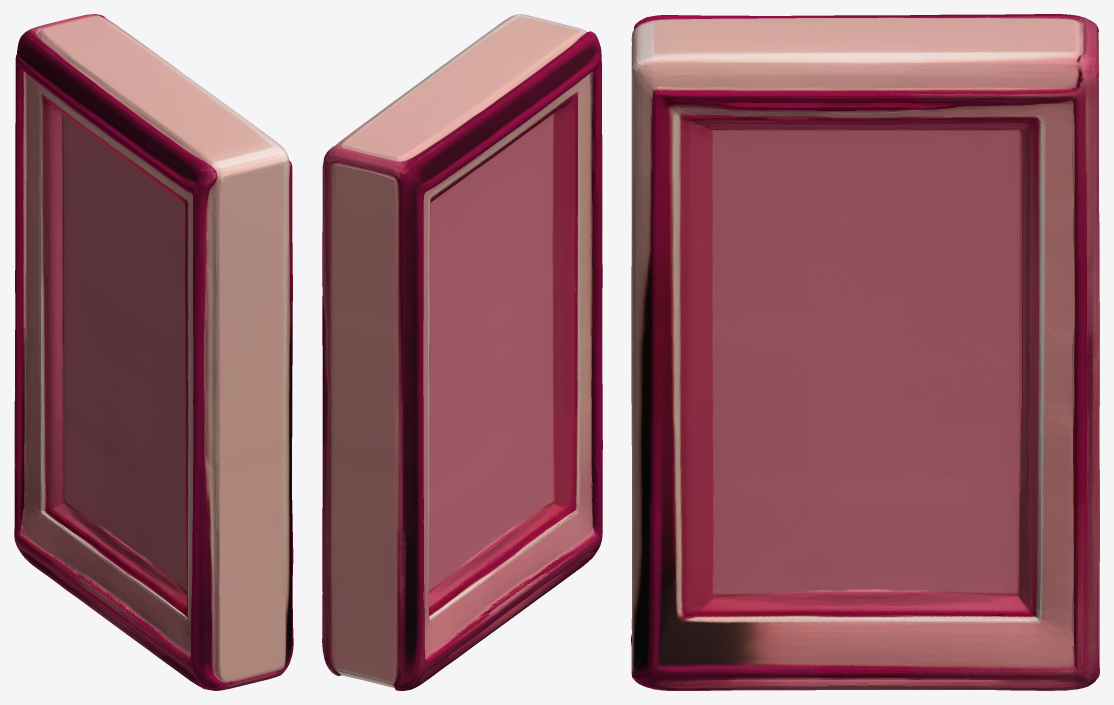
3 renders of one model, left to right at view 1: azimuth 30°, elevation 25°; view 2: azimuth 150°, elevation 25°; view 3: azimuth 270°, elevation 25°, orthographic. The views are drawn at different scales.
Visible parts, largest first — view 1: world; view 2: world; view 3: world.
Boxes of the visible parts, box(x1,y1,x2,y2) form: world: box(14, 14, 293, 690); world: box(322, 14, 602, 690); world: box(631, 14, 1099, 690).
Size of the model in its own units: 20.41 by 99.01 by 66.22.
1 material, 1 textured.
